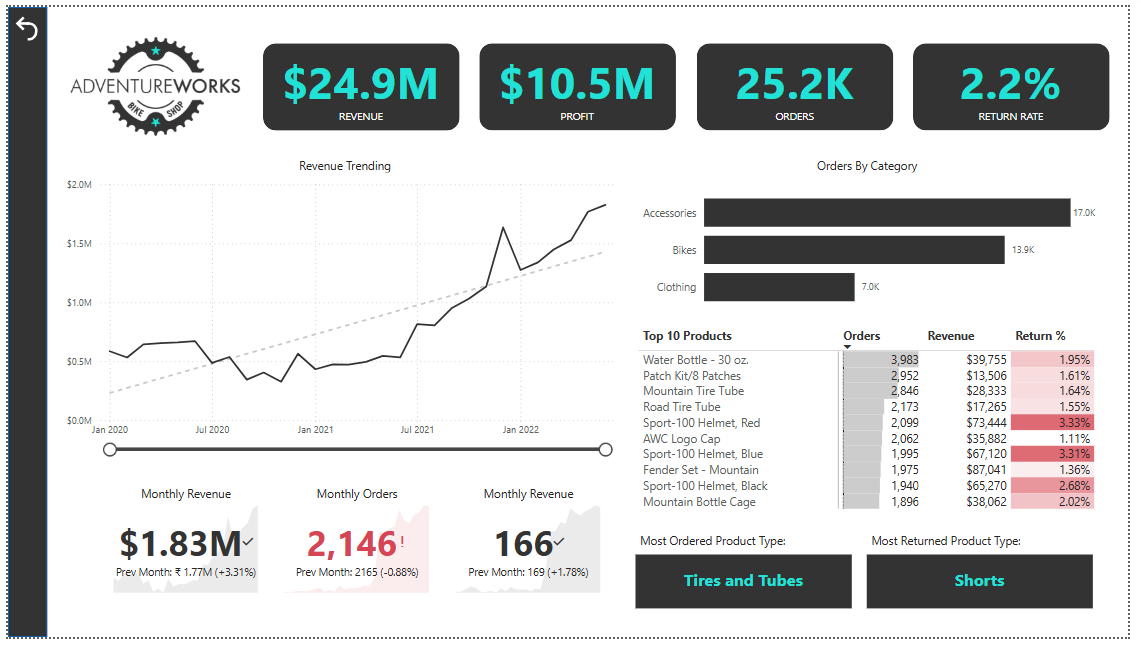

This screenshot's page, from the dashboard's own definition file:
{"tool":"powerbi","page":{"name":"Exec Dashboard","canvas":[1280,720],"ordinal":0},"visuals":[{"type":"image","title":"AW Logo","box":[45.3,10.2,246.2,161.2],"z":0},{"type":"shape","box":[291.2,42.3,225,100],"z":0,"group":"g2"},{"type":"shape","title":"Left Nav Background","box":[0,0,45,720],"z":1000},{"type":"shape","box":[538.6,42.1,225.1,99.9],"z":1000,"group":"g2"},{"type":"actionButton","box":[2.4,544.1,43.1,40.7],"z":1000,"group":"g4"},{"type":"group","id":"g1","title":"KPIs","box":[280,42.1,988.8,100.2],"z":2000},{"type":"group","id":"g2","title":"KPIs Background","box":[291.2,42.1,967.7,100.2],"z":2000,"group":"g1"},{"type":"shape","box":[786.2,42.1,225.1,99.9],"z":2000,"group":"g2"},{"type":"actionButton","box":[2.4,602.9,43.1,40.7],"z":2000,"group":"g4"},{"type":"shape","box":[1033.8,42.1,225.1,99.9],"z":3000,"group":"g2"},{"type":"card","fields":{"Values":["Mesures Table.Total Revenue"]},"box":[280,46.1,246.2,92.5],"z":3000,"group":"g3"},{"type":"lineChart","title":"Revenue Trending","fields":{"Y":["Mesures Table.Total Revenue"],"Category":["Calendar Lookup.Start of Month"]},"box":[67.5,181.2,647.5,345],"z":3000},{"type":"actionButton","box":[2.4,661.6,43.1,40.7],"z":3000,"group":"g4"},{"type":"card","fields":{"Values":["Mesures Table.Total Orders"]},"box":[775,46.1,246.2,92.5],"z":4000,"group":"g3"},{"type":"actionButton","box":[2.4,485.4,43.1,40.7],"z":4000,"group":"g4"},{"type":"kpi","title":"Monthly Revenue","fields":{"Indicator":["Mesures Table.Total Revenue"],"TrendLine":["Calendar Lookup.Start of Month"],"Goal":["Mesures Table.Previous Month Revenue"]},"box":[116.2,547.5,175,127.5],"z":4000},{"type":"card","fields":{"Values":["Mesures Table.Total Profit"]},"box":[527.5,46.1,246.2,92.5],"z":5000,"group":"g3"},{"type":"kpi","title":"Monthly Orders","fields":{"TrendLine":["Calendar Lookup.Start of Month"],"Goal":["Mesures Table.Previous Month Orders"],"Indicator":["Mesures Table.Total Orders"]},"box":[311.9,547.5,175,127.5],"z":5000},{"type":"card","fields":{"Values":["Mesures Table.Return Rate"]},"box":[1022.5,46.1,246.2,92.5],"z":6000,"group":"g3"},{"type":"kpi","title":"Monthly Revenue","fields":{"TrendLine":["Calendar Lookup.Start of Month"],"Indicator":["Mesures Table.Total Return"],"Goal":["Mesures Table.Previous Month Return"]},"box":[507.5,547.5,175,127.5],"z":6000},{"type":"group","id":"g3","title":"KPIs Values","box":[280,46.1,988.8,92.5],"z":6001,"group":"g1"},{"type":"clusteredBarChart","title":"Orders By Category","fields":{"Category":["Product Categories Lookup.CategoryName"],"Y":["Mesures Table.Total Orders"]},"box":[715.6,171.1,532.2,188.9],"z":7000},{"type":"pivotTable","fields":{"Rows":["Product Lookup.ProductName"],"Values":["Mesures Table.Total Orders","Mesures Table.Total Revenue","Mesures Table.Return Rate"]},"box":[715.7,360.8,532.3,231],"z":8000},{"type":"card","fields":{"Values":["Min(Product Subcategories Lookup.SubcategoryName)"]},"box":[717.1,625.5,247.1,61.5],"z":9000},{"type":"textbox","box":[717.1,595.4,231.4,30.1],"z":10000},{"type":"card","fields":{"Values":["Min(Product Subcategories Lookup.SubcategoryName)"]},"box":[981.3,625.2,258.4,61.9],"z":11000},{"type":"textbox","box":[981.3,595.5,232.2,31],"z":12000},{"type":"actionButton","box":[2.5,5,40,37.5],"z":13000},{"type":"group","id":"g4","title":"Navigation Buttons","box":[2.4,485.4,43.1,216.9],"z":14000},{"type":"actionButton","box":[1.2,61.2,42.5,46.2],"z":15000}]}

Visuals, with their boxes in screenshot pixels (x1, y1, x2, y2), scaled from the page's 1280x720 canvas onto the 1141x656 screenshot:
"AW Logo" image: {"x1": 40, "y1": 9, "x2": 260, "y2": 156}
shape: {"x1": 260, "y1": 39, "x2": 460, "y2": 130}
"Left Nav Background" shape: {"x1": 0, "y1": 0, "x2": 40, "y2": 655}
shape: {"x1": 480, "y1": 38, "x2": 681, "y2": 129}
actionButton: {"x1": 2, "y1": 496, "x2": 41, "y2": 533}
"KPIs" group: {"x1": 250, "y1": 38, "x2": 1131, "y2": 130}
"KPIs Background" group: {"x1": 260, "y1": 38, "x2": 1122, "y2": 130}
shape: {"x1": 701, "y1": 38, "x2": 901, "y2": 129}
actionButton: {"x1": 2, "y1": 549, "x2": 41, "y2": 586}
shape: {"x1": 922, "y1": 38, "x2": 1122, "y2": 129}
card - Mesures Table.Total Revenue: {"x1": 250, "y1": 42, "x2": 469, "y2": 126}
"Revenue Trending" lineChart: {"x1": 60, "y1": 165, "x2": 637, "y2": 479}
actionButton: {"x1": 2, "y1": 603, "x2": 41, "y2": 640}
card - Mesures Table.Total Orders: {"x1": 691, "y1": 42, "x2": 910, "y2": 126}
actionButton: {"x1": 2, "y1": 442, "x2": 41, "y2": 479}
"Monthly Revenue" kpi: {"x1": 104, "y1": 499, "x2": 260, "y2": 615}
card - Mesures Table.Total Profit: {"x1": 470, "y1": 42, "x2": 690, "y2": 126}
"Monthly Orders" kpi: {"x1": 278, "y1": 499, "x2": 434, "y2": 615}
card - Mesures Table.Return Rate: {"x1": 911, "y1": 42, "x2": 1131, "y2": 126}
"Monthly Revenue" kpi: {"x1": 452, "y1": 499, "x2": 608, "y2": 615}
"KPIs Values" group: {"x1": 250, "y1": 42, "x2": 1131, "y2": 126}
"Orders By Category" clusteredBarChart: {"x1": 638, "y1": 156, "x2": 1112, "y2": 328}
pivotTable - Product Lookup.ProductName x Mesures Table.Total Orders: {"x1": 638, "y1": 329, "x2": 1112, "y2": 539}
card - Min(Product Subcategories Lookup.SubcategoryName): {"x1": 639, "y1": 570, "x2": 859, "y2": 626}
textbox: {"x1": 639, "y1": 542, "x2": 845, "y2": 570}
card - Min(Product Subcategories Lookup.SubcategoryName): {"x1": 875, "y1": 570, "x2": 1105, "y2": 626}
textbox: {"x1": 875, "y1": 543, "x2": 1082, "y2": 571}
actionButton: {"x1": 2, "y1": 5, "x2": 38, "y2": 39}
"Navigation Buttons" group: {"x1": 2, "y1": 442, "x2": 41, "y2": 640}
actionButton: {"x1": 1, "y1": 56, "x2": 39, "y2": 98}
